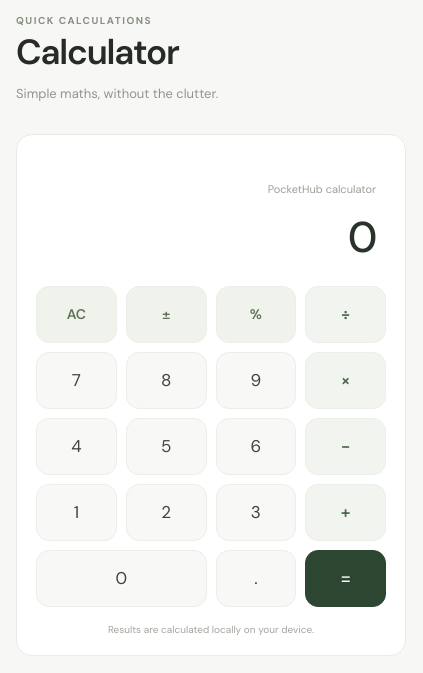
Test: Calculator functionality › subtracts two numbers
Click the button "9" at (256,380), box left=216, top=352, right=296, bottom=409
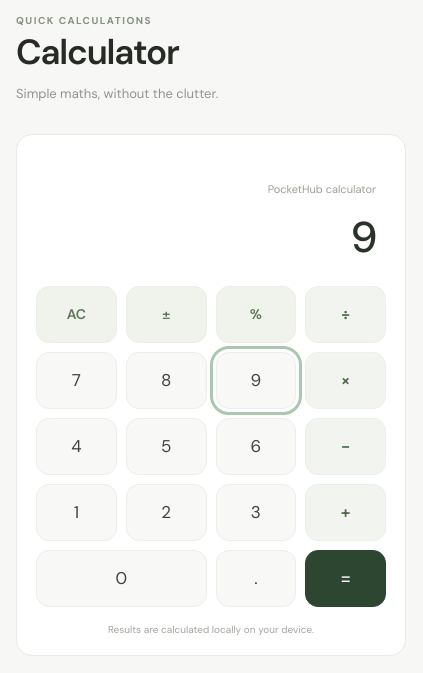
Click the button "−" at (346,446), box left=305, top=418, right=386, bottom=475
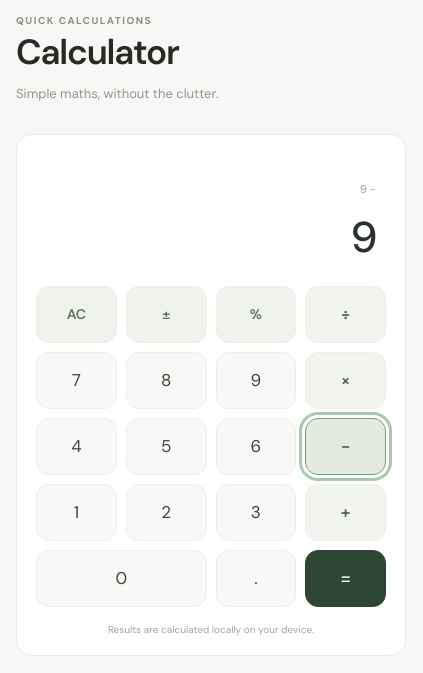
Click the button "4" at (76,446), box left=36, top=418, right=117, bottom=475
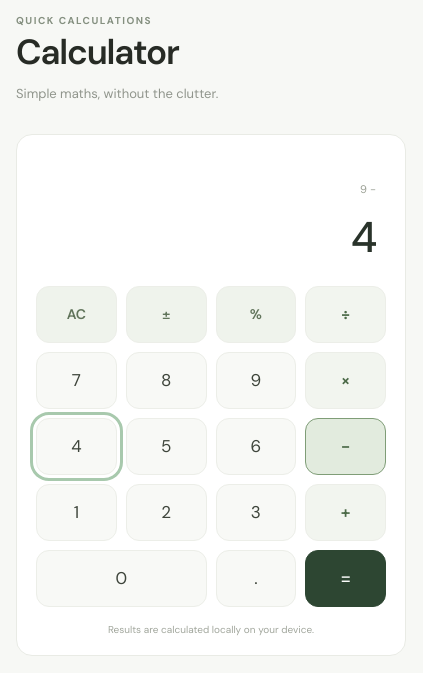
Click the button "=" at (346,578), box left=305, top=550, right=386, bottom=607
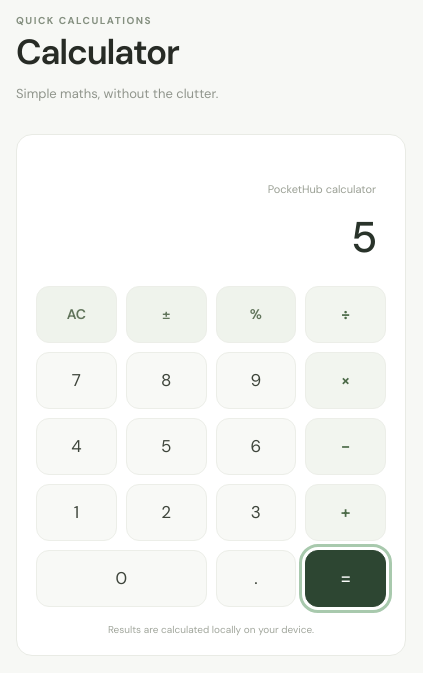
Expected: the text "5" is shown, left=351, top=209, right=376, bottom=265
